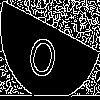O: (25, 25, 62, 82)
